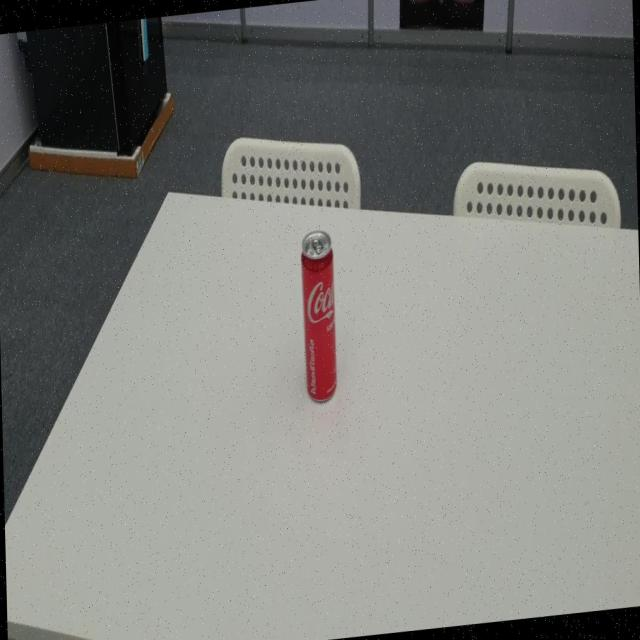coca-cola: (300, 226, 340, 408)
